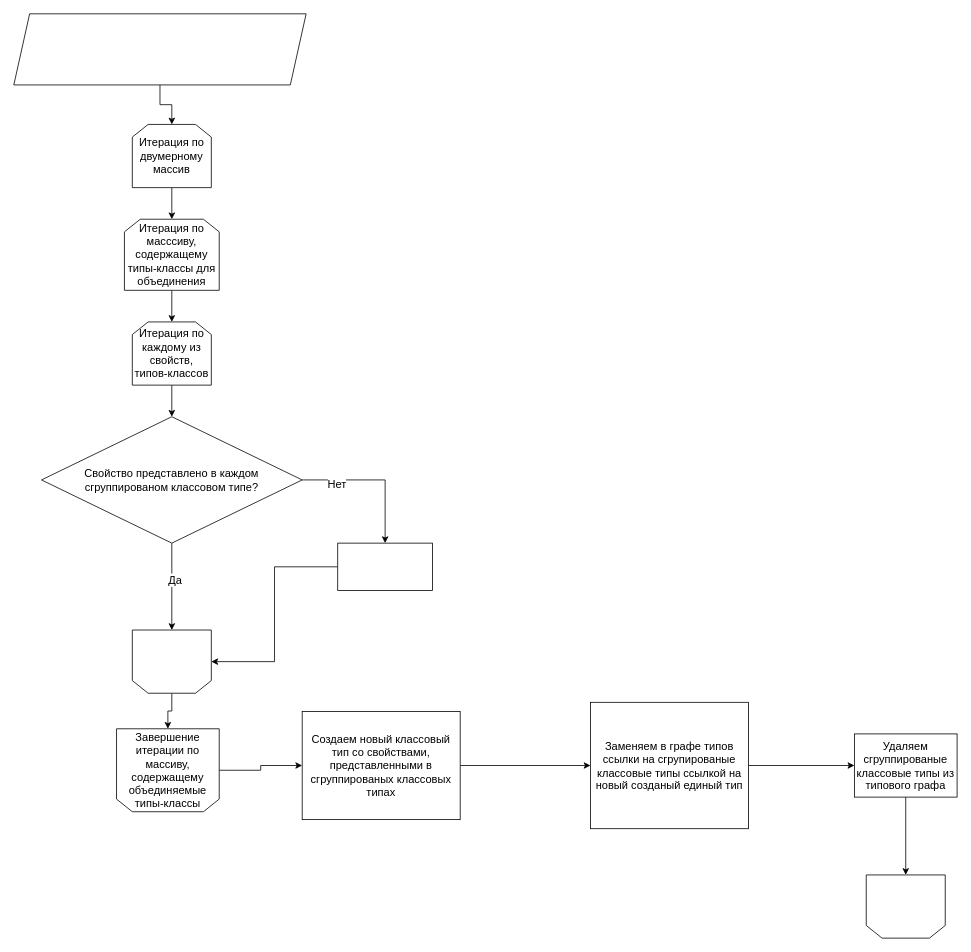
The diagram is 971 pixels wide and 952 high, and some of its shapes have lost their labels. The box of each missing label's shape, as (x1, y1, x2, y2) in pixels:
Двумерный массив, содержащий типы-классы для объединения: (13, 13, 306, 85)
Завершение итерации по двумерному массиву: (865, 874, 945, 938)
Завершение итерации по свойства типов-классов: (132, 629, 211, 693)
Маркируем свойство как опциональное: (337, 542, 433, 591)
